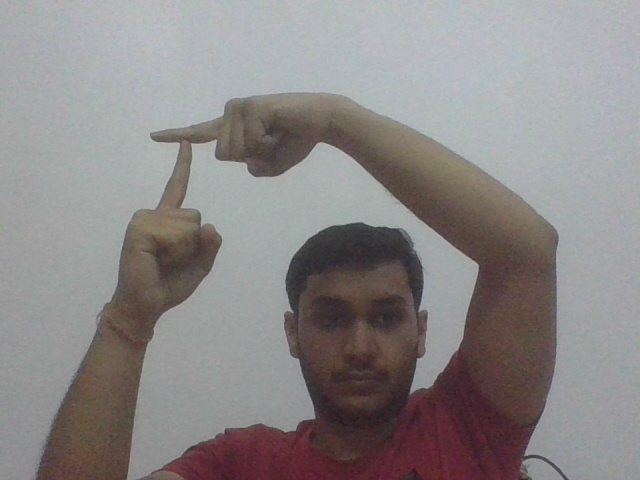T: (145, 118, 213, 207)
